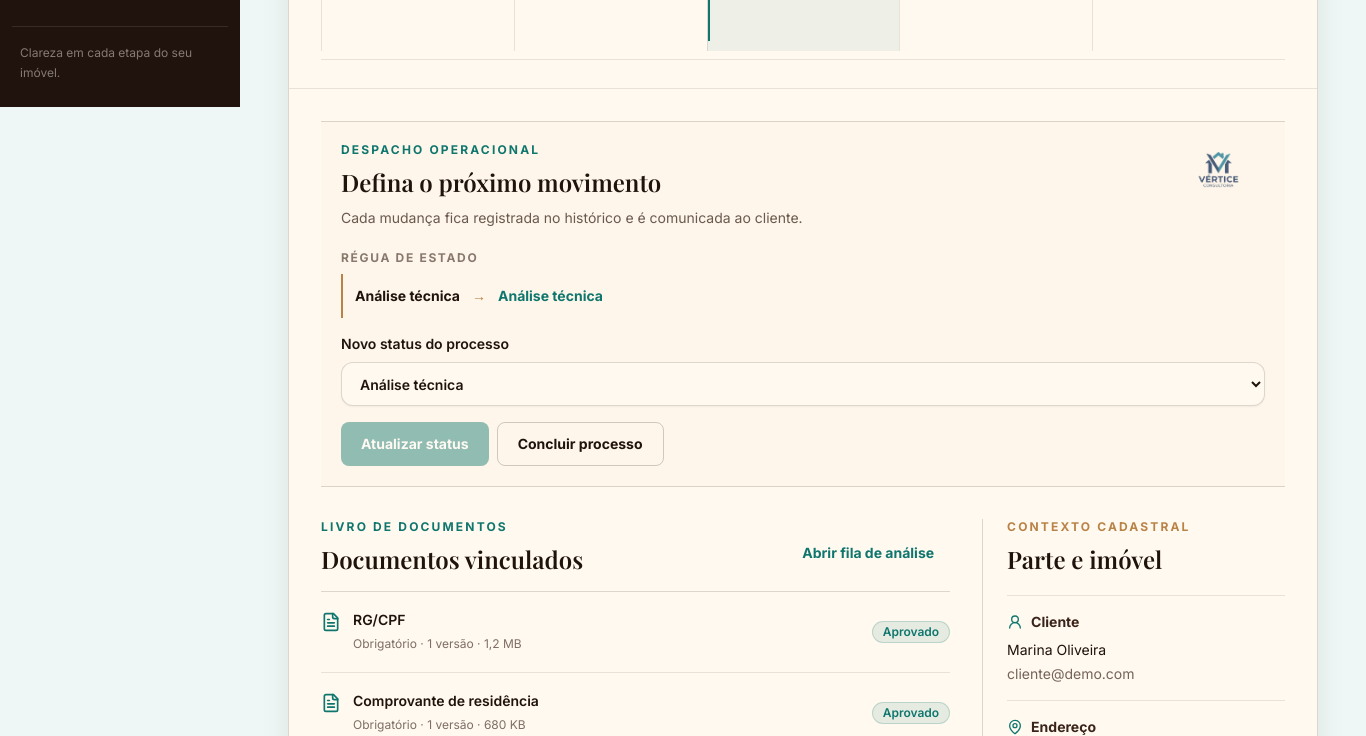
it: AdminPortal › atualiza o status, confirma a conclusão e torna o processo concluído somente leitura
The image size is (1366, 736).
(page scrolled)
Expected: the text "Marina Oliveira" is shown, [1007,641,1106,658]
Select "Prefeitura/cartório" in the dropdown labelled "Novo status do processo". click: (803, 384)
box: [341,362,1265,406]
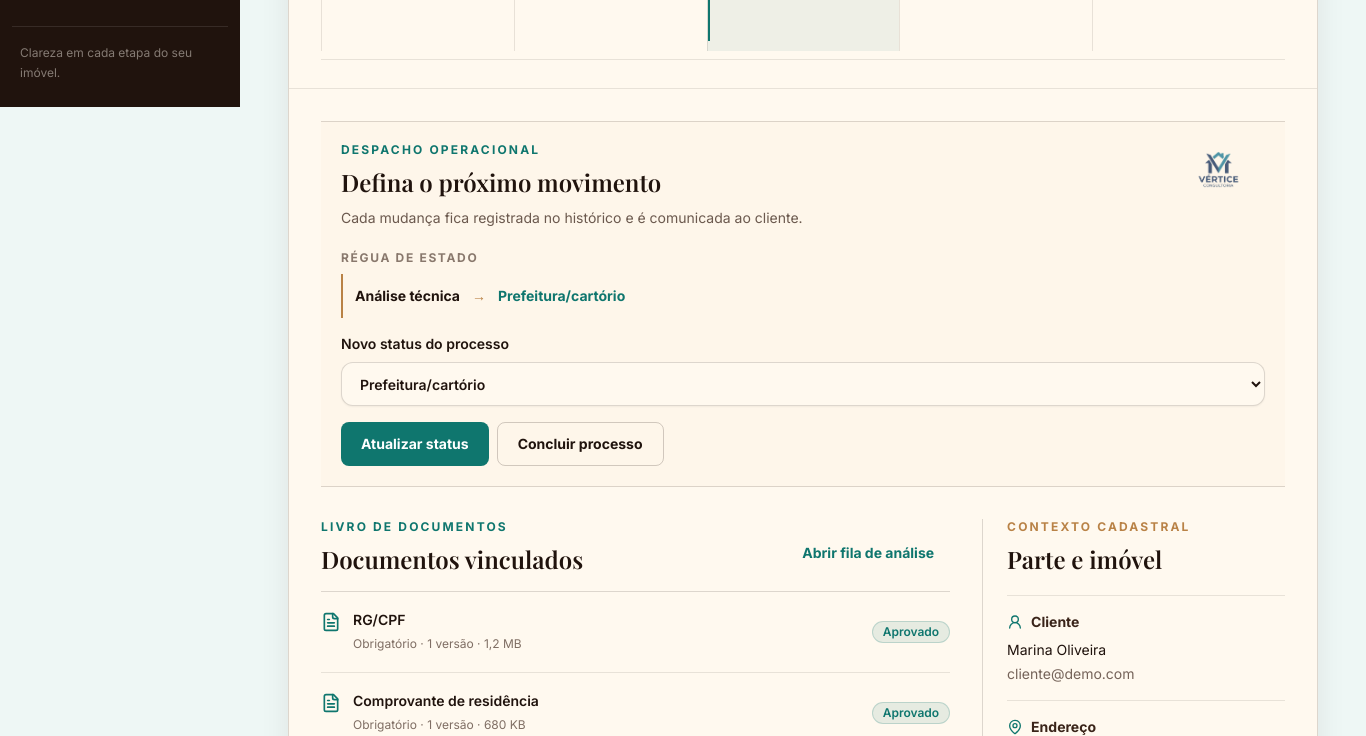
Click the button "Atualizar status". click: (415, 444)
box: [341,422,489,466]
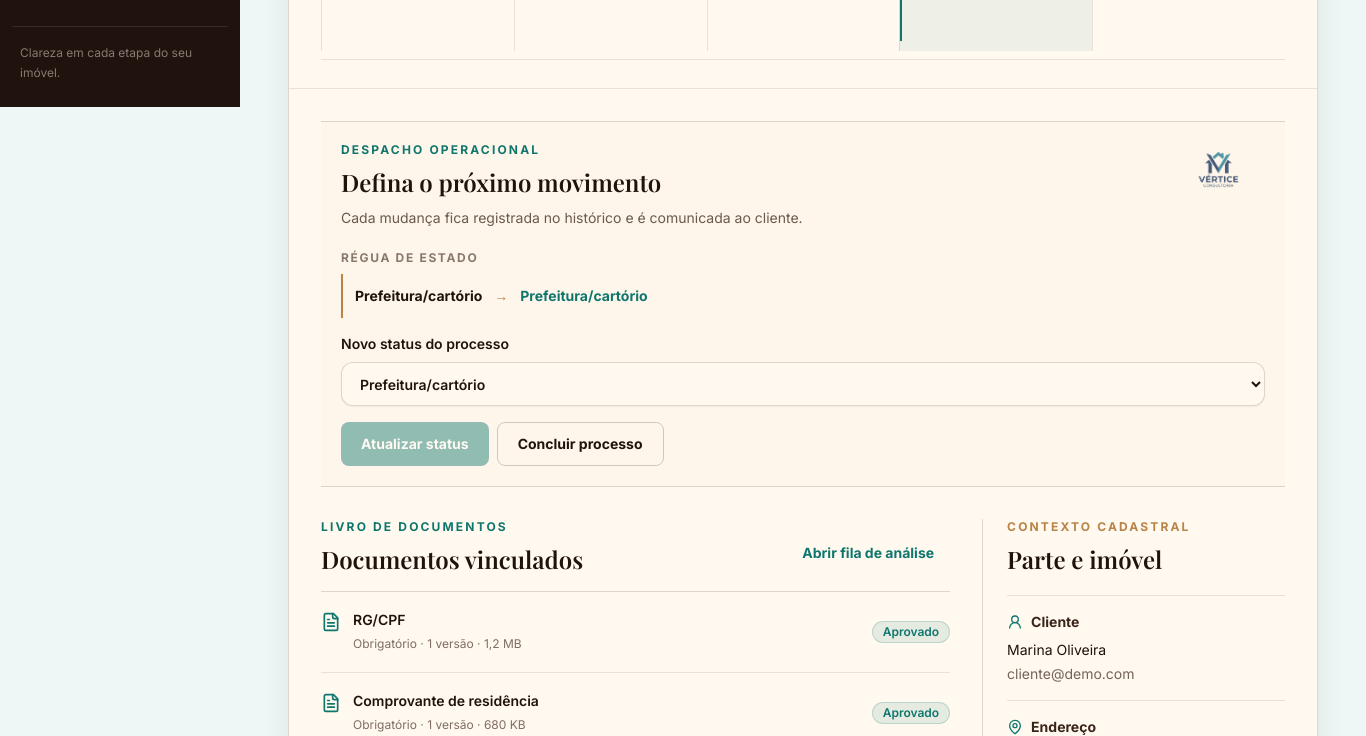
Select "Concluído" in the dropdown labelled "Novo status do processo". click: (803, 384)
box: [341,362,1265,406]
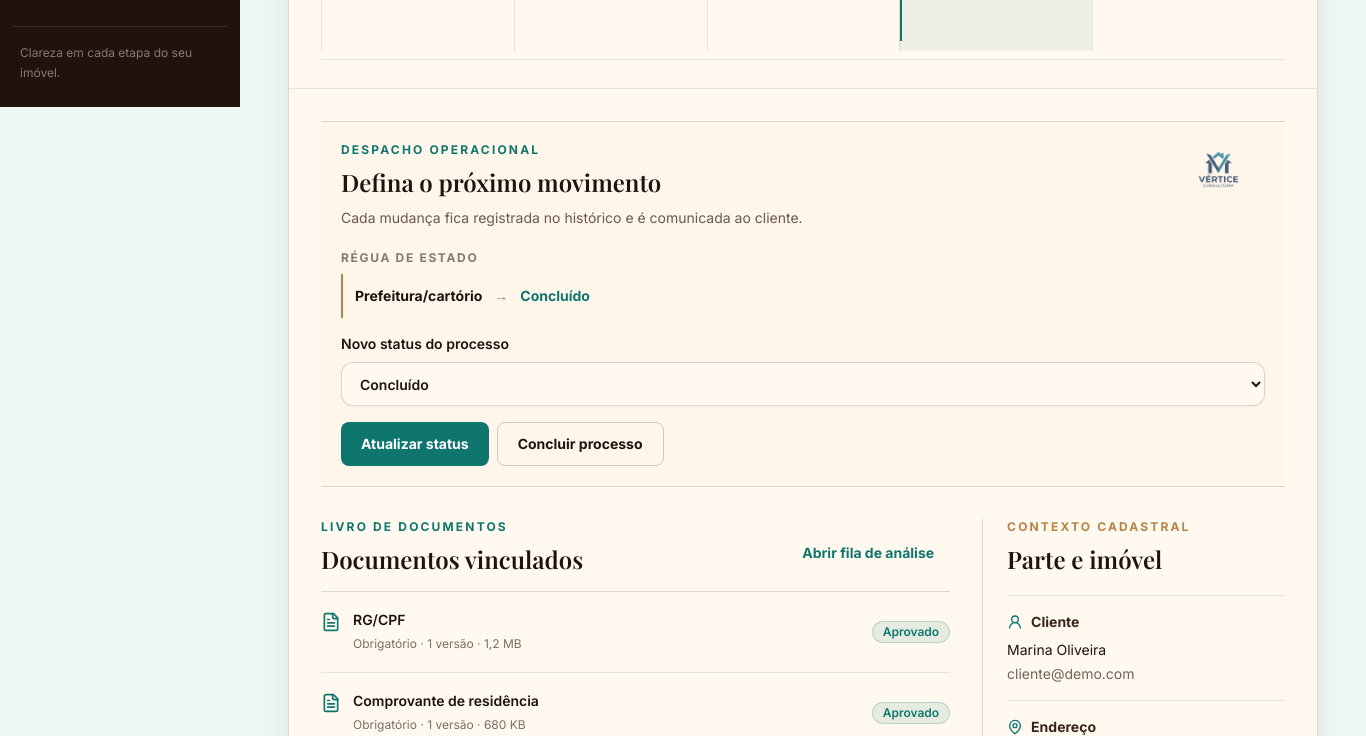
Click the button "Atualizar status". click: (415, 444)
box: [341,422,489,466]
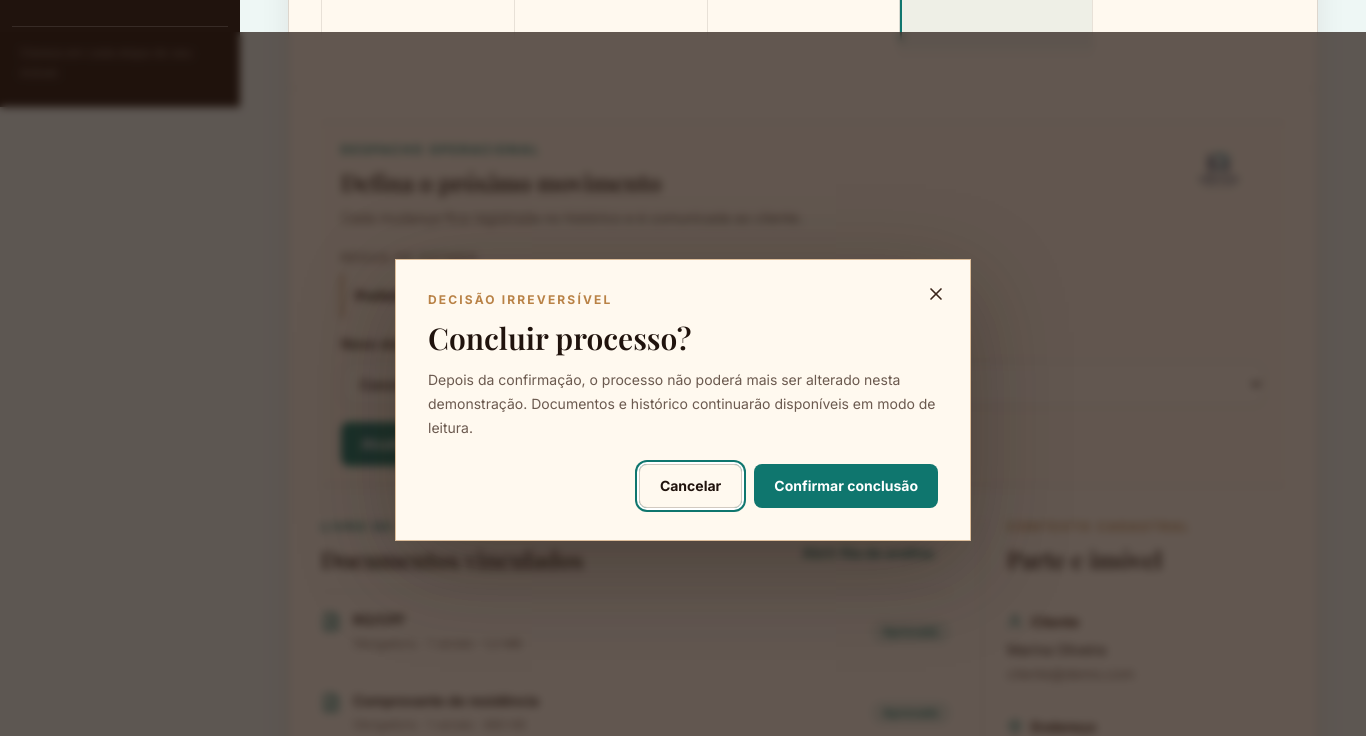
Now the text "não poderá mais ser alterado" is shown, box [428,371,936,436]
Click the button "Confirmar conclusão". click: (846, 486)
box: [754,464,938,508]
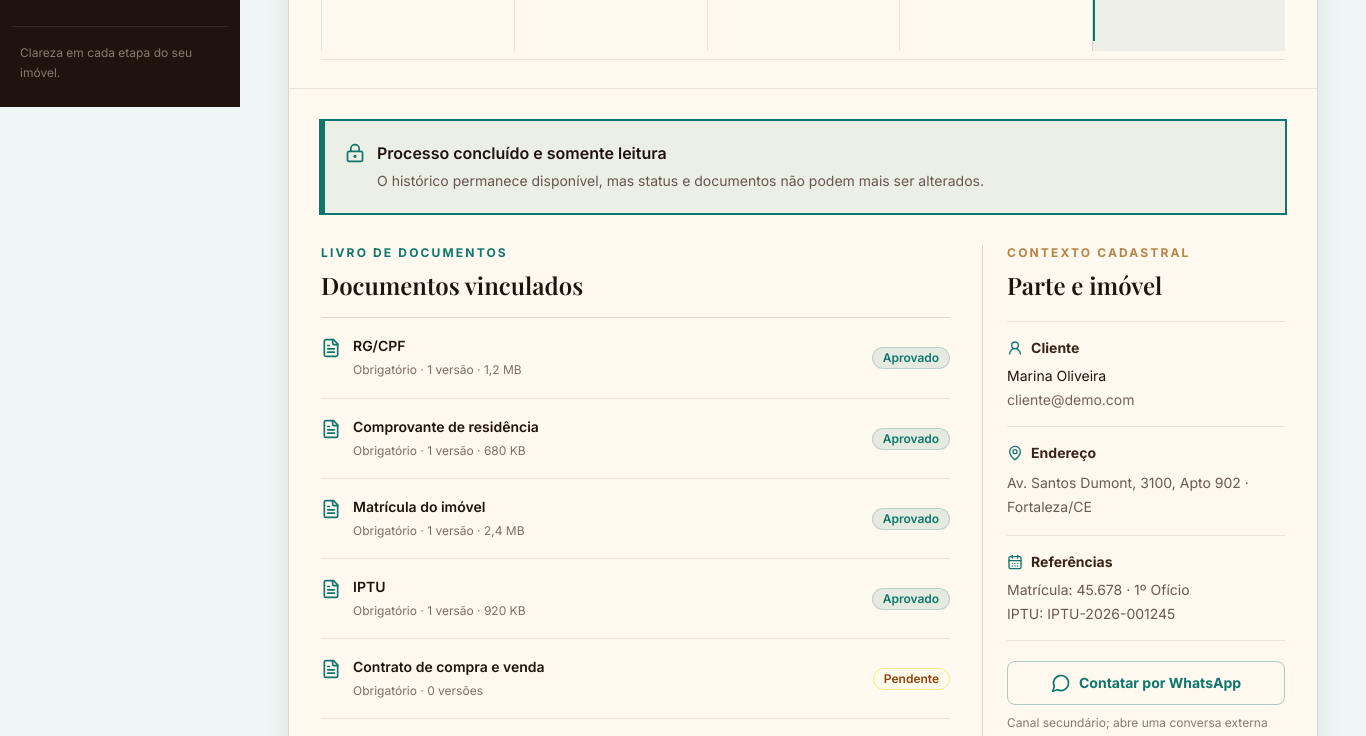
Now the heading "Processo concluído e somente leitura" is shown, box [377,143,667,163]
Now the label labelled "Novo status do processo" is gone
